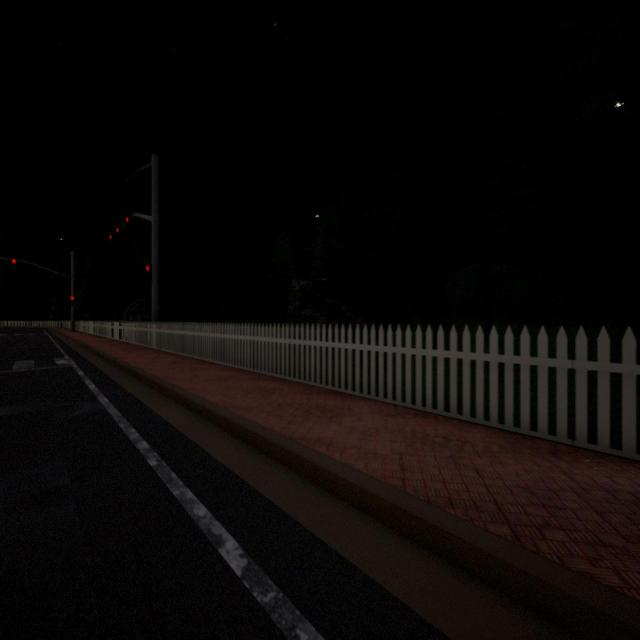traffic_light: (145, 264, 152, 285), (70, 295, 74, 306), (126, 217, 130, 223), (12, 258, 16, 264), (116, 227, 119, 233), (109, 235, 112, 239)
